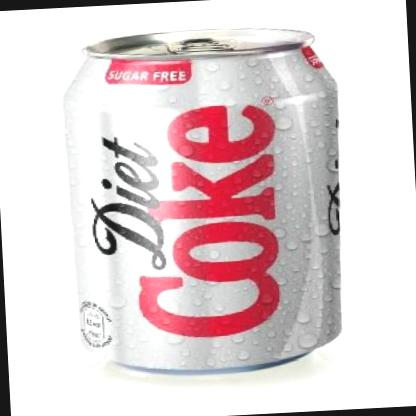alumunium_can: (57, 20, 354, 380)
